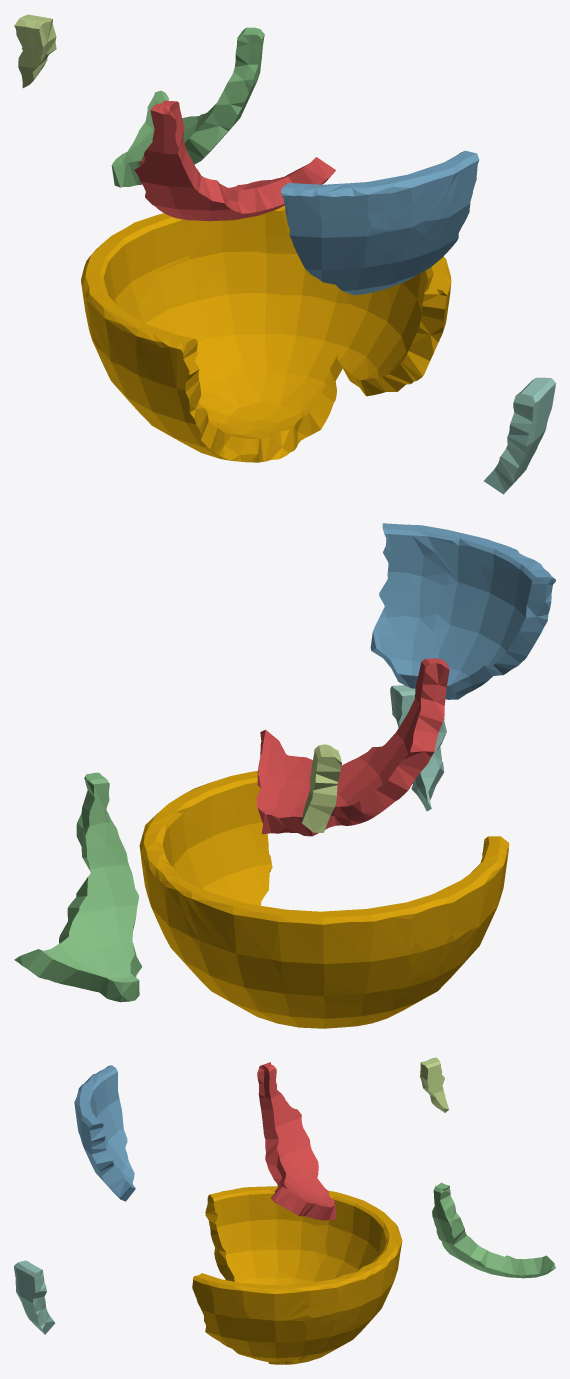
The model's file is fractured_48_6pcs_transformed.glb.
3 views of the same model, one above another, from view 1: azimuth 30°, elevation 25°; view 2: azimuth 150°, elevation 25°; view 3: azimuth 270°, elevation 25° (orthographic). The views are drawn at different scales.
Visible parts, largest first — view 1: piece_0.obj, piece_2.obj, piece_1.obj, piece_3.obj, piece_4.obj, piece_5.obj; view 2: piece_0.obj, piece_2.obj, piece_3.obj, piece_1.obj, piece_5.obj, piece_4.obj; view 3: piece_0.obj, piece_1.obj, piece_2.obj, piece_3.obj, piece_4.obj, piece_5.obj.
Part boxes in pixels (box(x1,y1,x2,y2)): piece_0.obj: box(81, 205, 451, 462); piece_2.obj: box(281, 150, 479, 295); piece_1.obj: box(134, 100, 335, 221); piece_3.obj: box(111, 27, 264, 187); piece_4.obj: box(484, 377, 555, 494); piece_5.obj: box(14, 14, 56, 87); piece_0.obj: box(139, 770, 509, 1028); piece_2.obj: box(370, 523, 555, 699); piece_3.obj: box(14, 772, 142, 1002); piece_1.obj: box(256, 658, 449, 836); piece_5.obj: box(302, 744, 341, 832); piece_4.obj: box(390, 685, 446, 811); piece_0.obj: box(192, 1186, 402, 1364); piece_1.obj: box(257, 1062, 335, 1220); piece_2.obj: box(74, 1065, 135, 1201); piece_3.obj: box(432, 1182, 555, 1278); piece_4.obj: box(14, 1260, 55, 1334); piece_5.obj: box(420, 1057, 448, 1112).
Size of the model in its own units: 0.9989 by 1.11 by 2.15.
